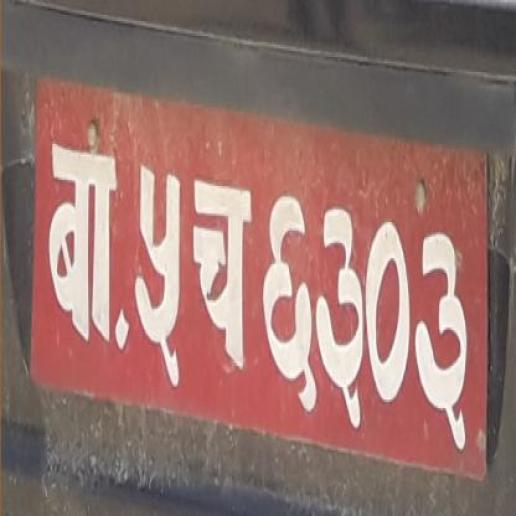0: (363, 206, 413, 413)
3: (414, 219, 474, 459), (315, 199, 366, 441)
5: (131, 146, 188, 396)
6: (257, 176, 319, 422)
ba: (45, 129, 118, 357)
cha: (191, 150, 253, 398)
